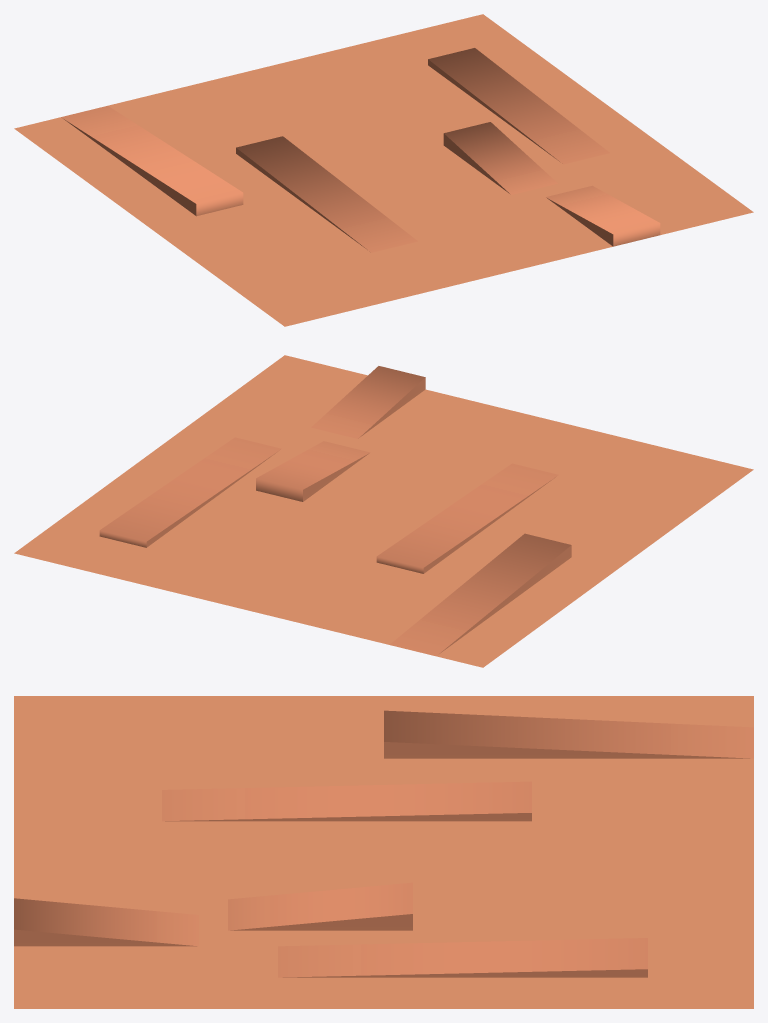
Rendered from floor-wood.glb.
The picture shows the model from 3 angles, top to bottom: view 1: azimuth 30°, elevation 25°; view 2: azimuth 150°, elevation 25°; view 3: azimuth 270°, elevation 25°; orthographic projection. The views are drawn at different scales.
Parts seen in each view (by area): view 1: floor-wood; view 2: floor-wood; view 3: floor-wood.
Boxes of the visible parts, x1,y1,x2,y2 form: floor-wood: (14,14,753,326); floor-wood: (14,355,753,667); floor-wood: (14,696,753,1008).
Bounding box in the file's own units: 1 × 0.025 × 1.
Materials: 1 (1 with a texture image).
